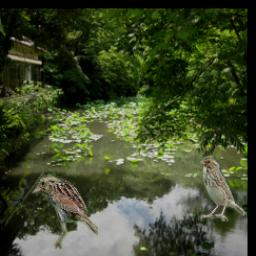Sparrow: (33, 173, 99, 249), (198, 155, 247, 222)
